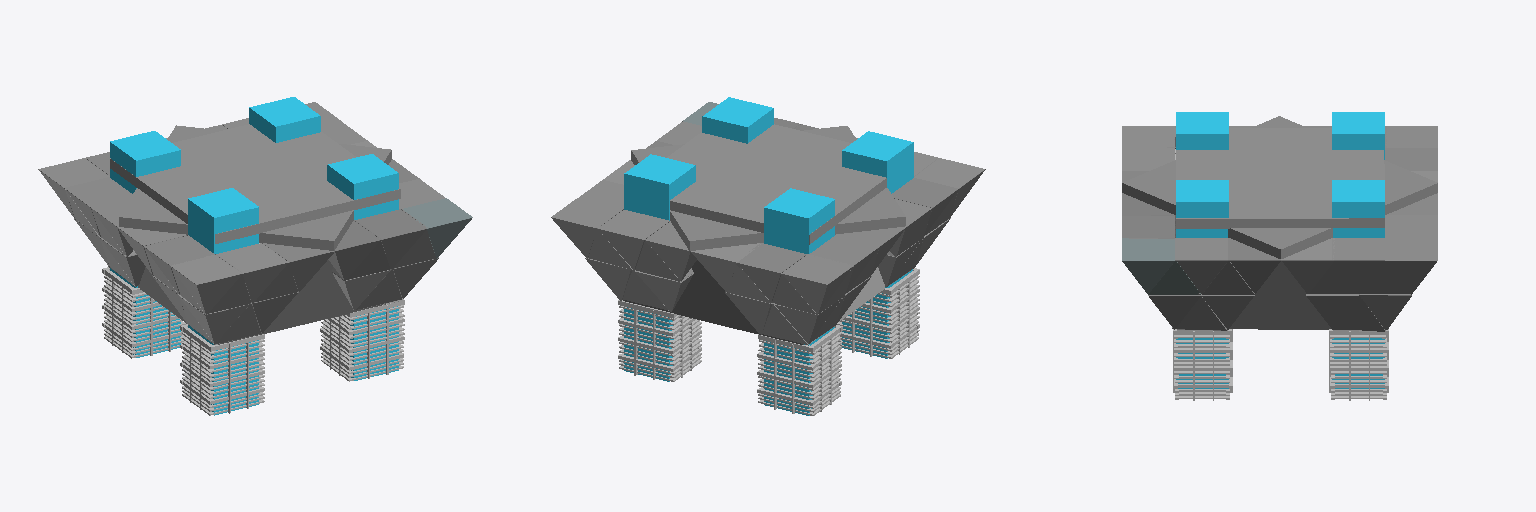
File: bigsite.obj
3 renders of one model, left to right at view 1: azimuth 30°, elevation 25°; view 2: azimuth 150°, elevation 25°; view 3: azimuth 270°, elevation 25°, orthographic.
Visible parts, largest first — view 1: 立方体.009_立方体.017, 立方体.008_立方体.016, 立方体.426_立方体.622, 立方体.343_立方体.461, 立方体.573_立方体.765, 立方体.013_立方体.024, 立方体.172_立方体.173, 立方体.014_立方体.028, 立方体.015_立方体.029, 立方体.038_立方体.056, 立方体.040_立方体.058, 立方体.027_立方体.054 (+20 smaller); view 2: 立方体.009_立方体.017, 立方体.008_立方体.016, 立方体.573_立方体.765, 立方体.172_立方体.173, 立方体.426_立方体.622, 立方体.012_立方体.023, 立方体.343_立方体.461, 立方体.045_立方体.063, 立方体.050_立方体.069, 立方体.051_立方体.070, 立方体.031_立方体.048, 立方体.014_立方体.028 (+20 smaller); view 3: 立方体.009_立方体.017, 立方体.008_立方体.016, 立方体.011_立方体.022, 立方体.172_立方体.173, 立方体.343_立方体.461, 立方体.051_立方体.070, 立方体.060_立方体.079, 立方体.057_立方体.076, 立方体.040_立方体.058, 立方体.573_立方体.765, 立方体.426_立方体.622, 立方体.061_立方体.080 (+19 smaller).
Boxes of the visible parts, box(x1,y1,x2,y2) form: 立方体.009_立方体.017: box(110, 124, 400, 243); 立方体.008_立方体.016: box(119, 125, 391, 250); 立方体.426_立方体.622: box(188, 188, 258, 415); 立方体.343_立方体.461: box(327, 154, 398, 380); 立方体.573_立方体.765: box(110, 131, 180, 357); 立方体.013_立方体.024: box(218, 260, 385, 344); 立方体.172_立方体.173: box(249, 97, 320, 142); 立方体.014_立方体.028: box(171, 255, 241, 314); 立方体.015_立方体.029: box(217, 243, 288, 303); 立方体.038_立方体.056: box(355, 209, 426, 269); 立方体.040_立方体.058: box(403, 198, 472, 258); 立方体.027_立方体.054: box(328, 221, 380, 280); 立方体.009_立方体.017: box(667, 124, 886, 244); 立方体.008_立方体.016: box(631, 126, 905, 250); 立方体.573_立方体.765: box(764, 188, 834, 415); 立方体.172_立方体.173: box(624, 154, 695, 381); 立方体.426_立方体.622: box(842, 131, 913, 358); 立方体.012_立方体.023: box(623, 260, 803, 344); 立方体.343_立方体.461: box(702, 97, 773, 143); 立方体.045_立方体.063: box(781, 254, 853, 314); 立方体.050_立方体.069: box(598, 210, 669, 269); 立方体.051_立方体.070: box(551, 198, 622, 258); 立方体.031_立方体.048: box(736, 243, 806, 302); 立方体.014_立方体.028: box(914, 158, 985, 217); 立方体.009_立方体.017: box(1175, 128, 1384, 228); 立方体.008_立方体.016: box(1122, 116, 1437, 258); 立方体.011_立方体.022: box(1175, 221, 1330, 329); 立方体.172_立方体.173: box(1332, 180, 1384, 388); 立方体.343_立方体.461: box(1176, 180, 1228, 388); 立方体.051_立方体.070: box(1385, 238, 1437, 294); 立方体.060_立方体.079: box(1332, 238, 1385, 293); 立方体.057_立方体.076: box(1175, 238, 1227, 293); 立方体.040_立方体.058: box(1122, 238, 1174, 293); 立方体.573_立方体.765: box(1332, 112, 1384, 159); 立方体.426_立方体.622: box(1176, 112, 1228, 149); 立方体.061_立方体.080: box(1281, 238, 1334, 293).
Bounding box in the file's own units: 11.98 × 8.16 × 11.85.